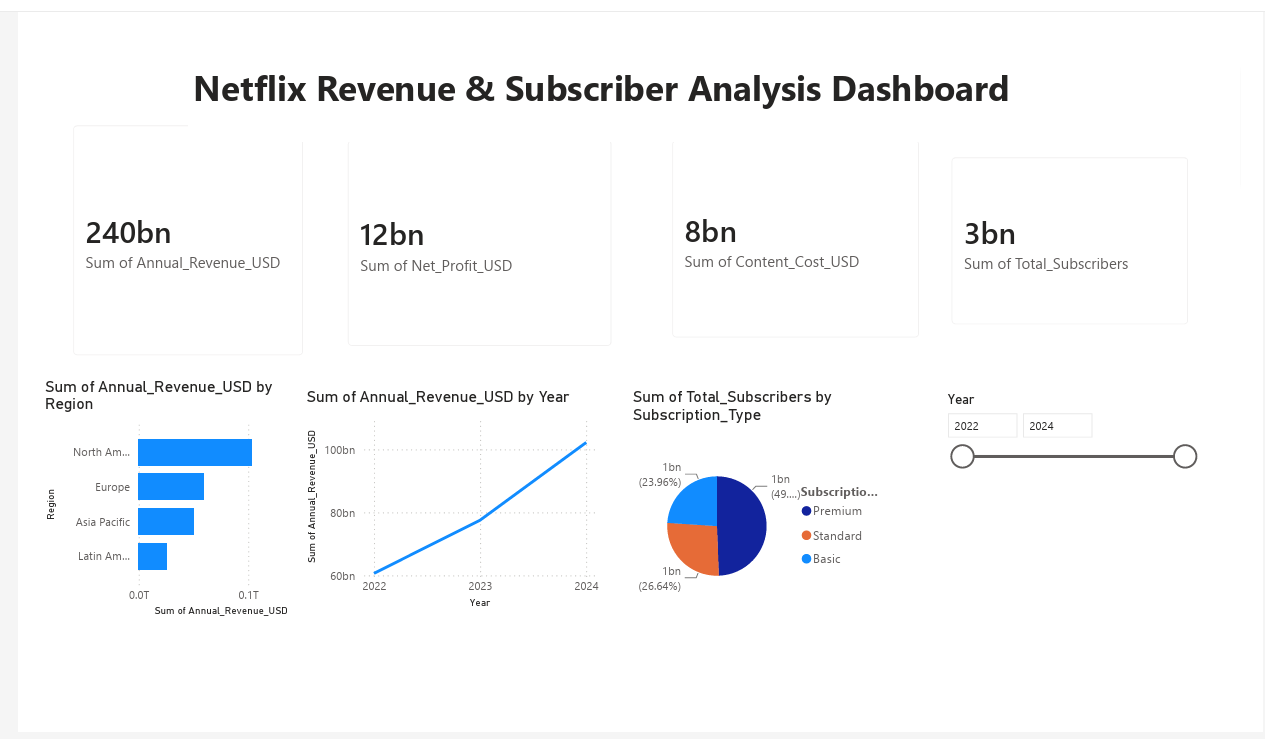

Layout of this report page (visuals, bound fields, positions):
{"tool":"powerbi","page":{"name":"Page 1","canvas":[1280,720],"ordinal":0},"visuals":[{"type":"cardVisual","fields":{"Data":["Sum(Netflix_Sales_Data.Annual_Revenue_USD)"]},"box":[17.8,79.6,279.9,279.9],"z":0},{"type":"cardVisual","fields":{"Data":["Sum(Netflix_Sales_Data.Total_Subscribers)"]},"box":[955.1,113.9,286.8,212.7],"z":1},{"type":"cardVisual","fields":{"Data":["Sum(Netflix_Sales_Data.Net_Profit_USD)"]},"box":[311.5,96.1,315.6,253.9],"z":2},{"type":"cardVisual","fields":{"Data":["Sum(Netflix_Sales_Data.Content_Cost_USD)"]},"box":[657.3,96.1,297.8,244.3],"z":3},{"type":"clusteredBarChart","fields":{"Category":["Netflix_Sales_Data.Region"],"Y":["Sum(Netflix_Sales_Data.Annual_Revenue_USD)"]},"box":[0,365,296.4,260.7],"z":4},{"type":"lineChart","fields":{"Category":["Netflix_Sales_Data.Year"],"Y":["Sum(Netflix_Sales_Data.Annual_Revenue_USD)"]},"box":[278.6,376,321.1,241.5],"z":5},{"type":"pieChart","fields":{"Category":["Netflix_Sales_Data.Subscription_Type"],"Y":["Sum(Netflix_Sales_Data.Total_Subscribers)"]},"box":[627.1,376,278.6,259.3],"z":6},{"type":"textbox","box":[157.8,26.1,929,87.8],"z":7},{"type":"slicer","fields":{"Values":["Netflix_Sales_Data.Year"]},"box":[955.1,376,286.8,226.4],"z":8}]}

Visuals, with their boxes on the page's 1280x720 design canvas (x1, y1, x2, y2). These are canvas units, not pixel positions in the 1265x739 screenshot, which may show the page scaled, cropped or inside an application window:
cardVisual - Sum(Netflix_Sales_Data.Annual_Revenue_USD): 18:80:298:360
cardVisual - Sum(Netflix_Sales_Data.Total_Subscribers): 955:114:1242:327
cardVisual - Sum(Netflix_Sales_Data.Net_Profit_USD): 312:96:627:350
cardVisual - Sum(Netflix_Sales_Data.Content_Cost_USD): 657:96:955:340
clusteredBarChart - Netflix_Sales_Data.Region x Sum(Netflix_Sales_Data.Annual_Revenue_USD): 0:365:296:626
lineChart - Netflix_Sales_Data.Year x Sum(Netflix_Sales_Data.Annual_Revenue_USD): 279:376:600:618
pieChart - Netflix_Sales_Data.Subscription_Type x Sum(Netflix_Sales_Data.Total_Subscribers): 627:376:906:635
textbox: 158:26:1087:114
slicer - Netflix_Sales_Data.Year: 955:376:1242:602
